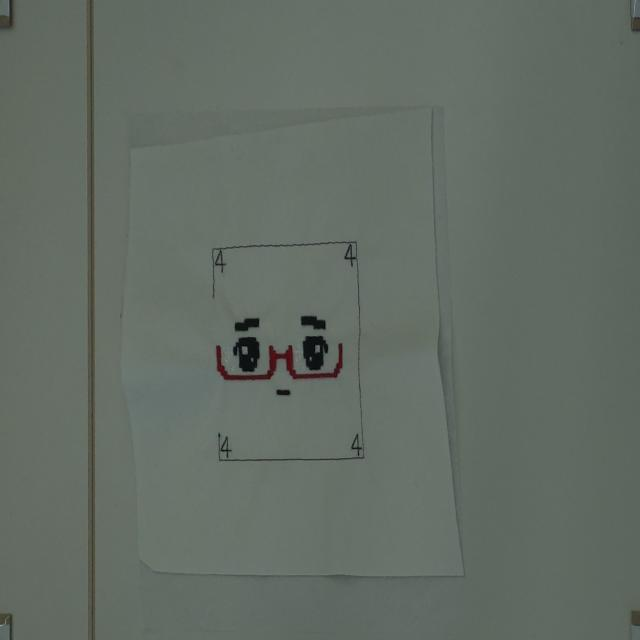4 -: (218, 431, 234, 461), (214, 247, 229, 276), (351, 431, 364, 459), (344, 246, 356, 268)
